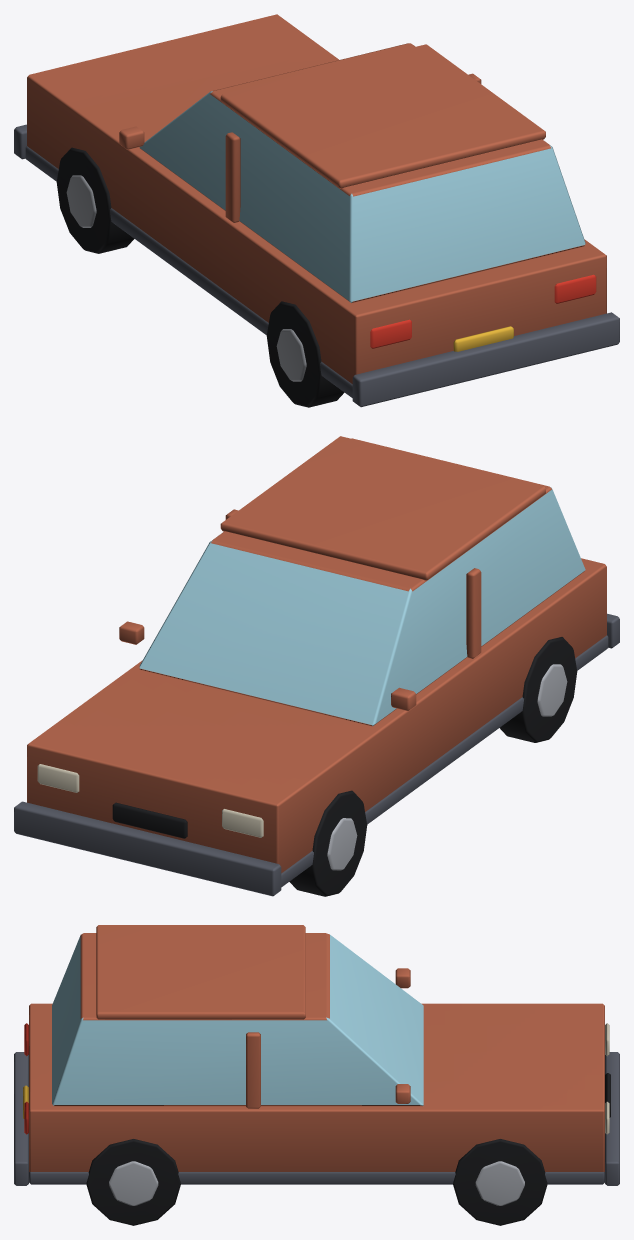
File: parked_car_b.glb
The picture shows the model from 3 angles, top to bottom: view 1: azimuth 30°, elevation 25°; view 2: azimuth 150°, elevation 25°; view 3: azimuth 270°, elevation 25°; orthographic projection. The views are drawn at different scales.
Visible parts, largest first — view 1: Body; view 2: Body; view 3: Body.
Boxes of the visible parts, <box> form: Body: <box>14,14,619,407</box>; Body: <box>14,436,619,896</box>; Body: <box>14,925,619,1225</box>.
Bounding box in the file's own units: 1.96 × 1.5 × 4.05.
1 material, 1 textured.
